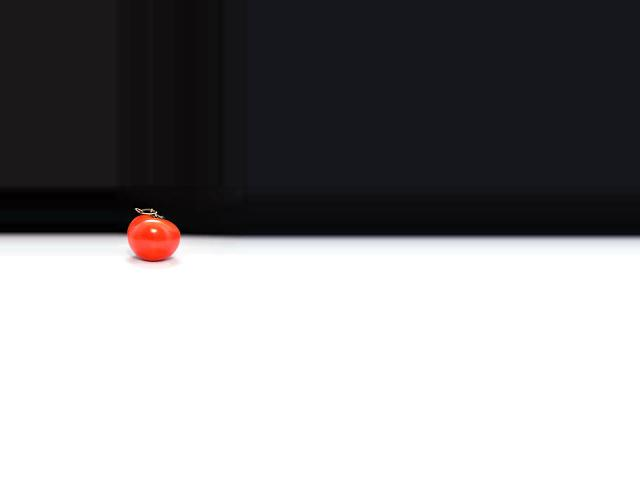tomato: (127, 214, 181, 261)
